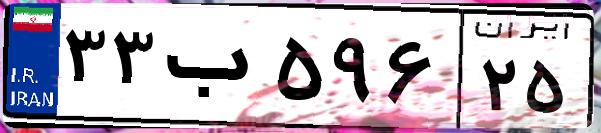2: (475, 38, 525, 113)
3: (57, 26, 110, 100), (110, 28, 158, 98)
5: (270, 28, 330, 110), (525, 38, 570, 115)
6: (385, 28, 445, 110)
9: (330, 28, 385, 110)
ب: (158, 20, 270, 120)
